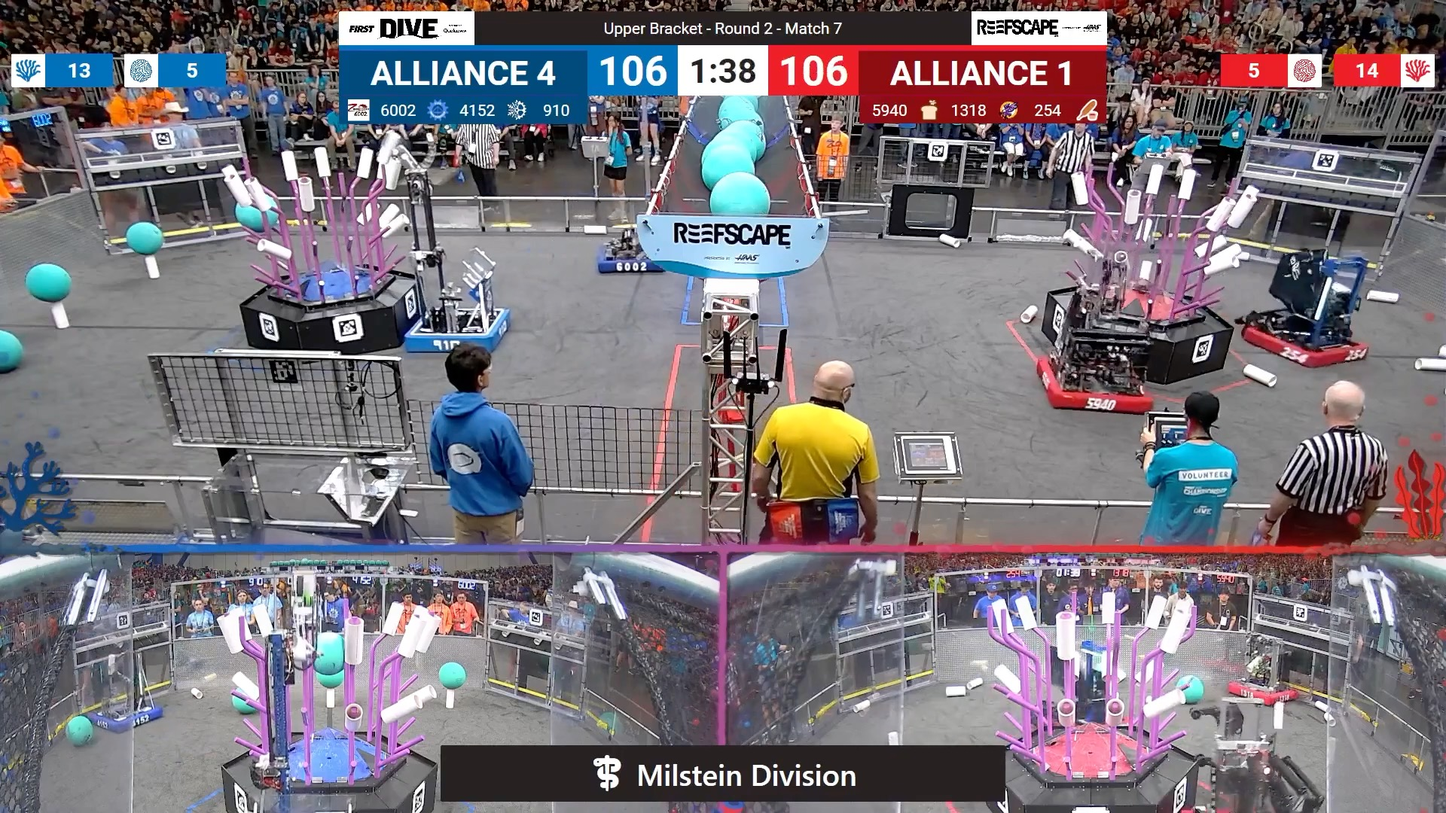bumpers: (1035, 356, 1164, 423), (1233, 316, 1373, 375), (399, 303, 515, 359), (81, 701, 168, 739), (592, 243, 668, 277), (1218, 676, 1301, 705)
